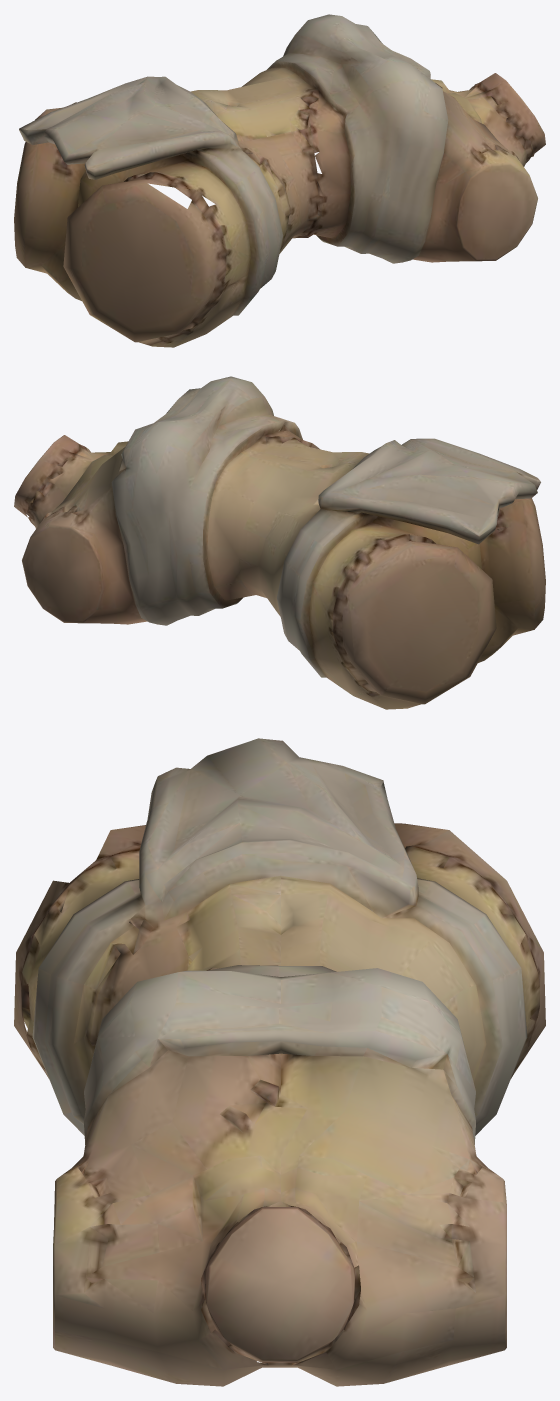
Rendered from torso-skin.glb.
3 renders of one model, top to bottom at view 1: azimuth 30°, elevation 25°; view 2: azimuth 150°, elevation 25°; view 3: azimuth 270°, elevation 25°, orthographic. The views are drawn at different scales.
Visible parts, largest first — view 1: tripo_node_321cf141-c05e-421d-8be2-e6af9; view 2: tripo_node_321cf141-c05e-421d-8be2-e6af9; view 3: tripo_node_321cf141-c05e-421d-8be2-e6af9.
Boxes of the visible parts, x1=… form: tripo_node_321cf141-c05e-421d-8be2-e6af9: x1=14, y1=14, x2=545, y2=347; tripo_node_321cf141-c05e-421d-8be2-e6af9: x1=14, y1=376, x2=545, y2=709; tripo_node_321cf141-c05e-421d-8be2-e6af9: x1=14, y1=738, x2=545, y2=1386.
Bounding box in the file's own units: 0.1134 × 0.0502 × 0.0635.
Materials: 1 (1 with a texture image).
